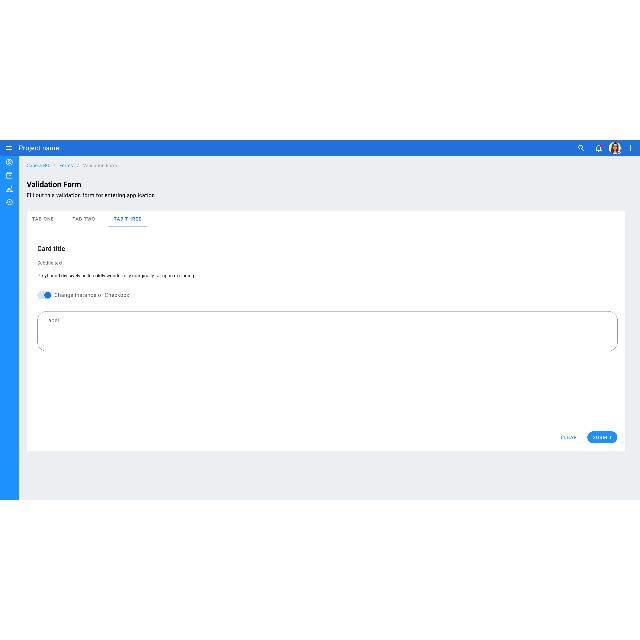QLabel: (36, 273, 196, 279), (26, 192, 154, 198), (54, 292, 130, 298), (26, 180, 82, 188), (18, 144, 60, 152), (35, 245, 67, 252), (111, 216, 142, 222), (36, 260, 62, 266), (31, 216, 55, 222), (71, 216, 95, 222), (592, 435, 612, 439), (560, 435, 578, 439)
QMenu: (0, 156, 18, 499)
VAppBar: (0, 140, 640, 156)
VBadge: (608, 142, 622, 154), (595, 144, 603, 152)
VBreadcrumbs: (25, 162, 117, 168)
VBtn: (588, 431, 618, 443)
VIcon: (6, 145, 14, 151), (578, 144, 584, 152), (628, 145, 632, 153)
VSwitch: (36, 292, 52, 300)
VTabs: (27, 210, 626, 452)
VTextarea: (36, 310, 618, 352)
